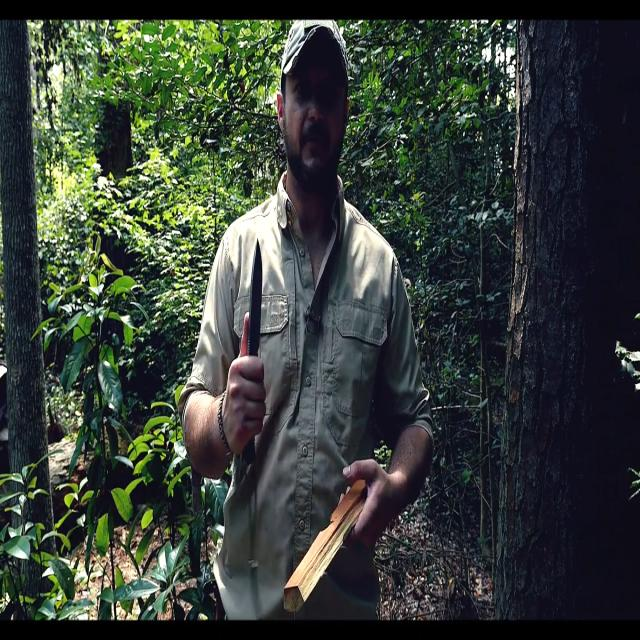knife: (249, 237, 265, 358)
